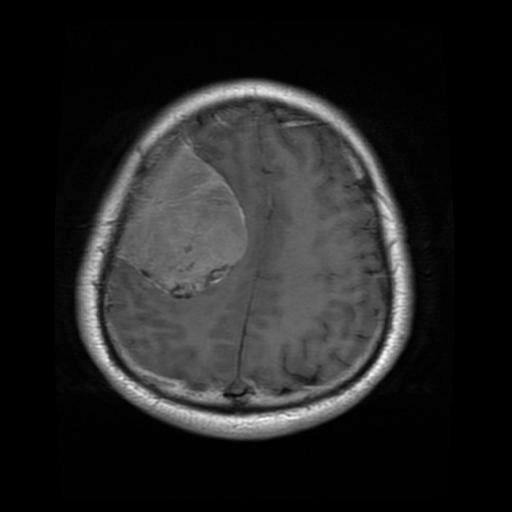Tumour-Pituitary: (103, 132, 275, 313)
